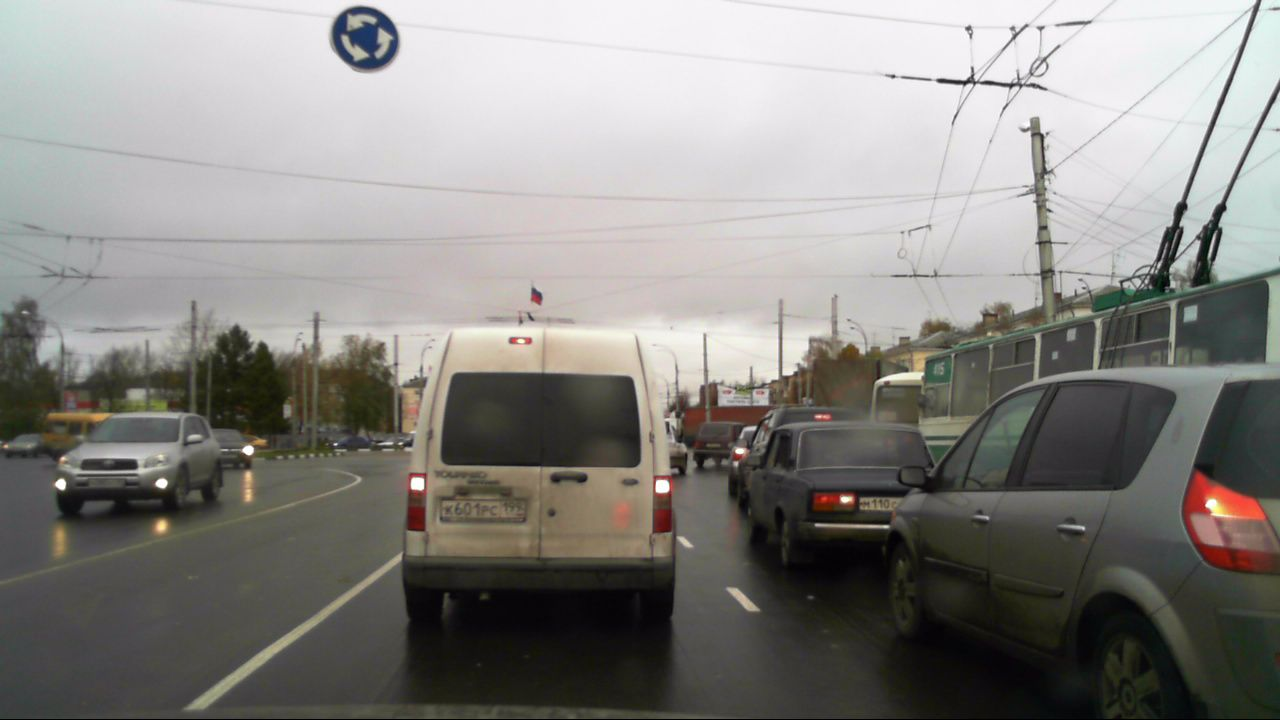Round-About: (331, 5, 399, 72)
